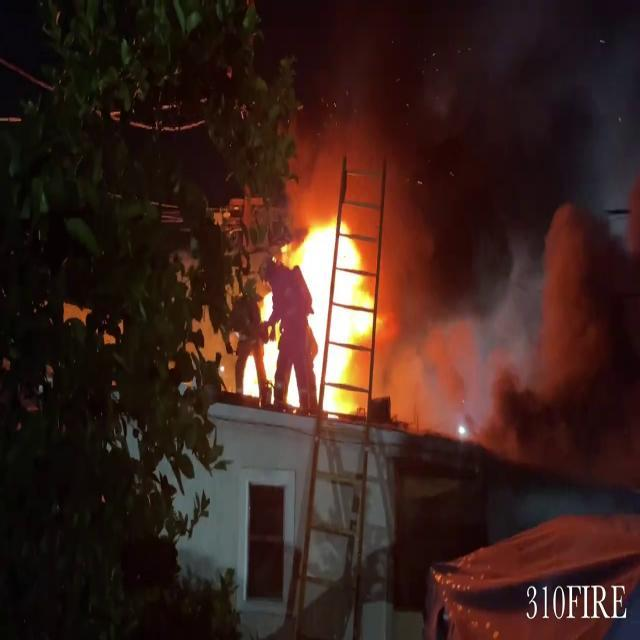Fire: (250, 208, 388, 416)
Smoke: (386, 1, 640, 496)
